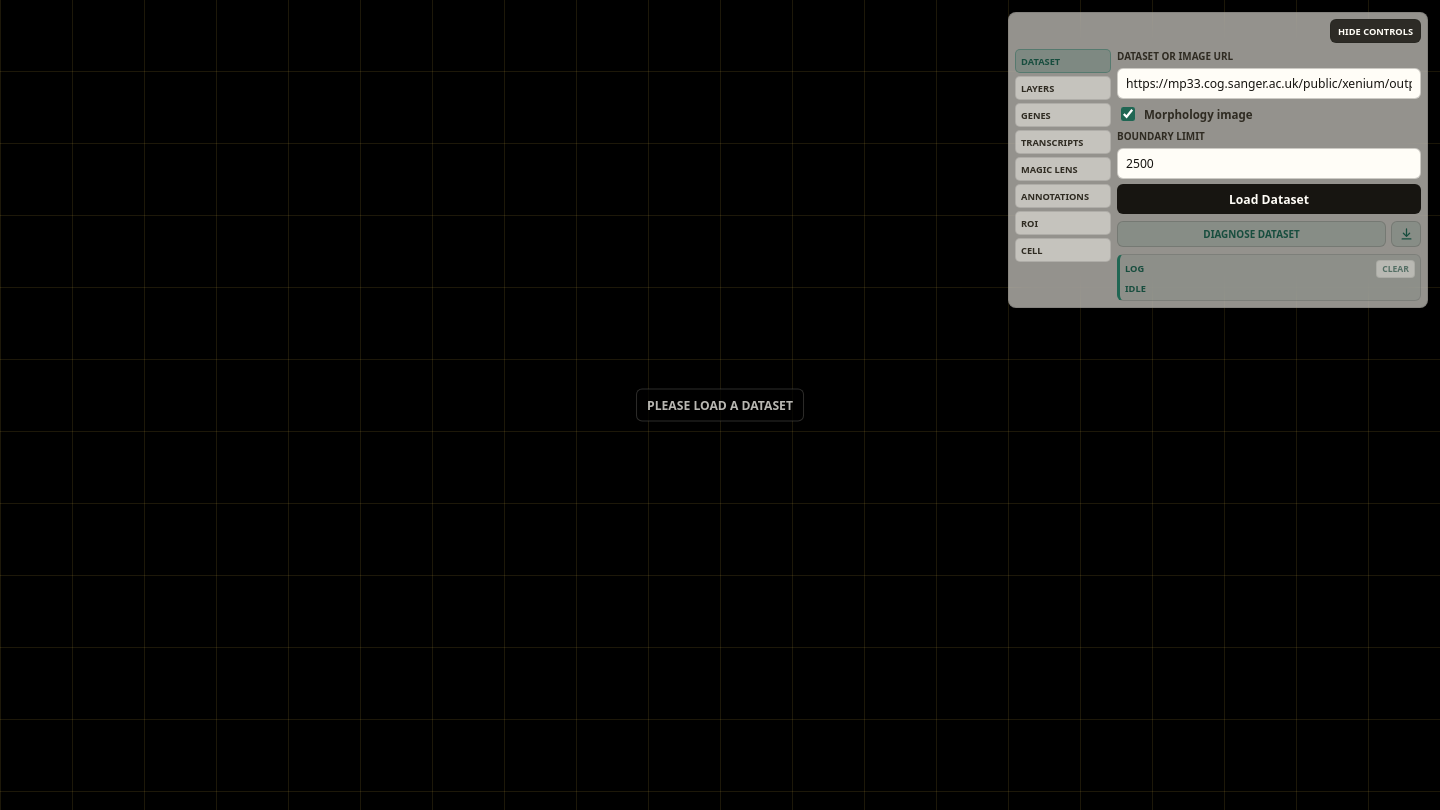
Test: App › runs dataset diagnostics and summarizes the report
Click the button "Diagnose Dataset" at (1252, 234), box [1117, 221, 1386, 247]
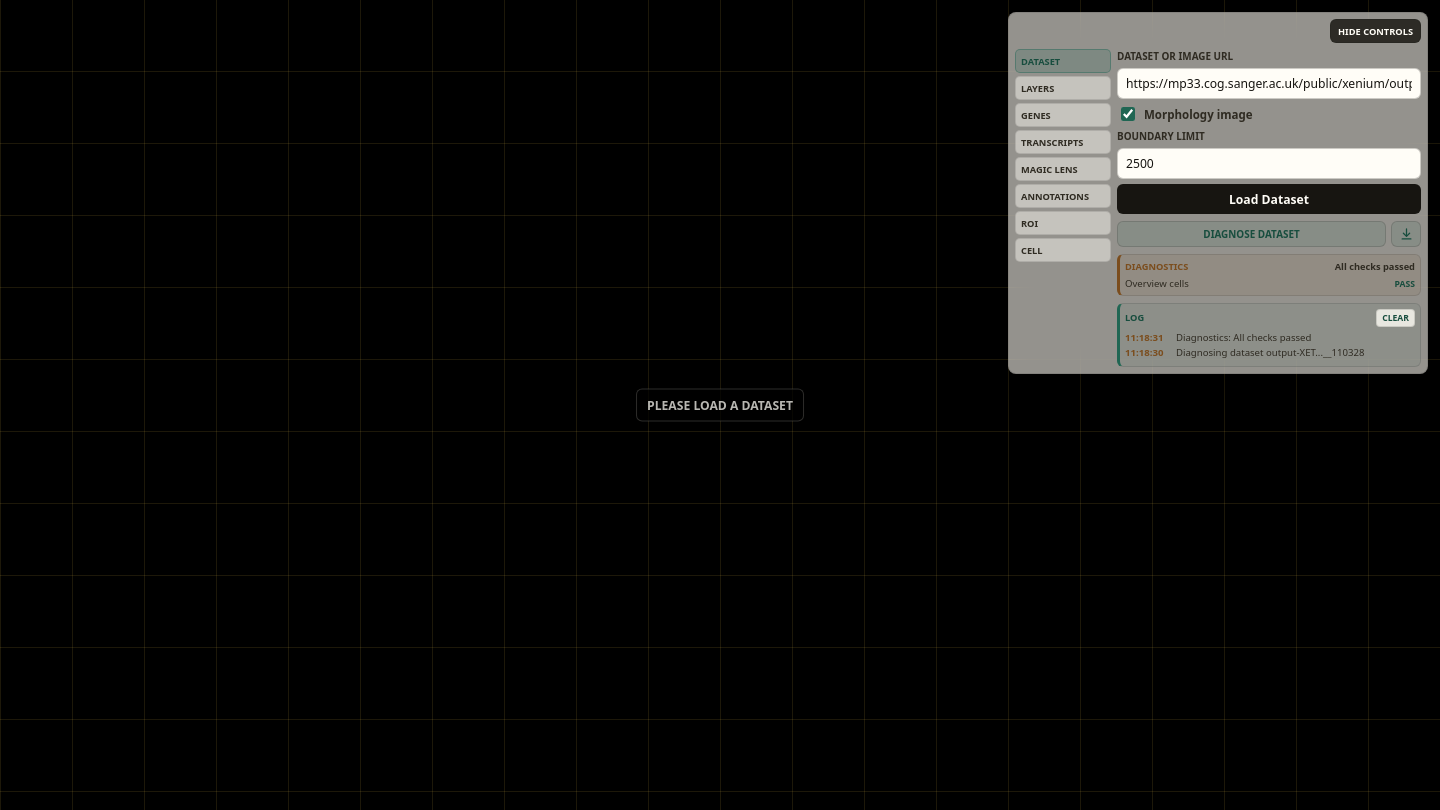
Expected: the text "All checks passed" is shown, [1335, 260, 1415, 273]
Expected: the text "Overview cells" is shown, [1125, 278, 1189, 290]
